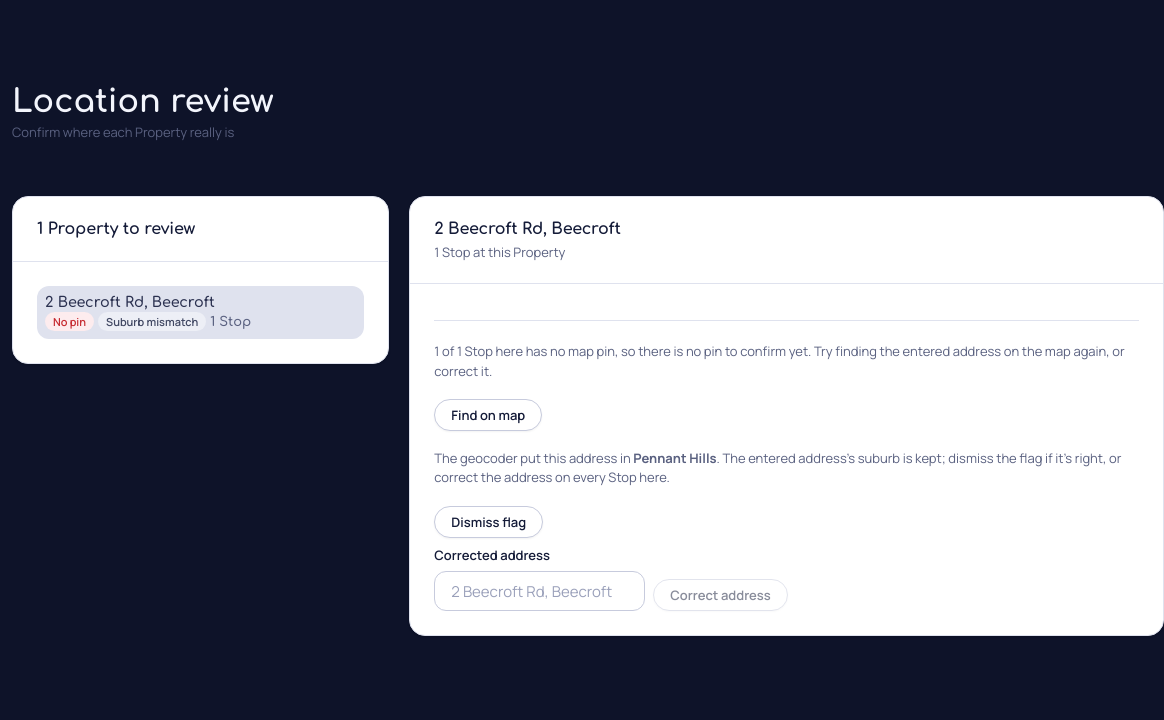
Test: Administrator Location review page › a Property with a Stop that has no pin (#344) › stays in the queue when a suburb mismatch at it is dismissed
This screenshot has width=1164, height=720.
Click the button "Dismiss flag": [489, 522] box [434,506,543,538]
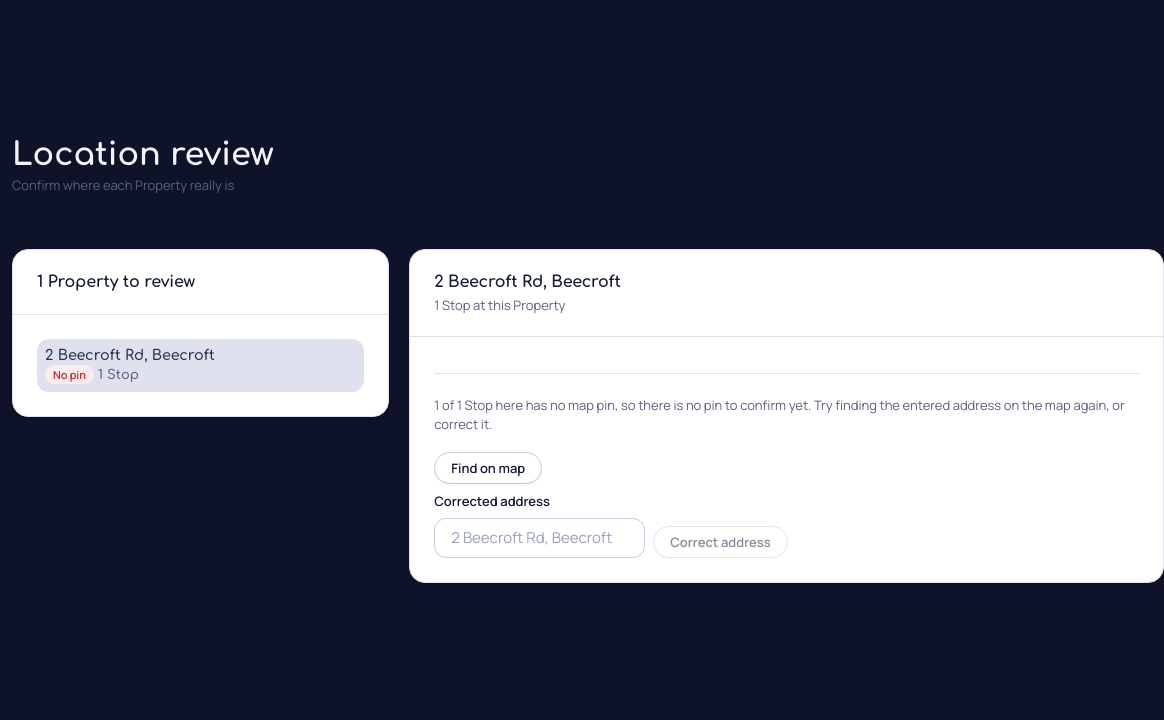
Expected: the heading "1 Property to review" is shown, [37,270,195,294]
Now the text "Pennant Hills" is gone
